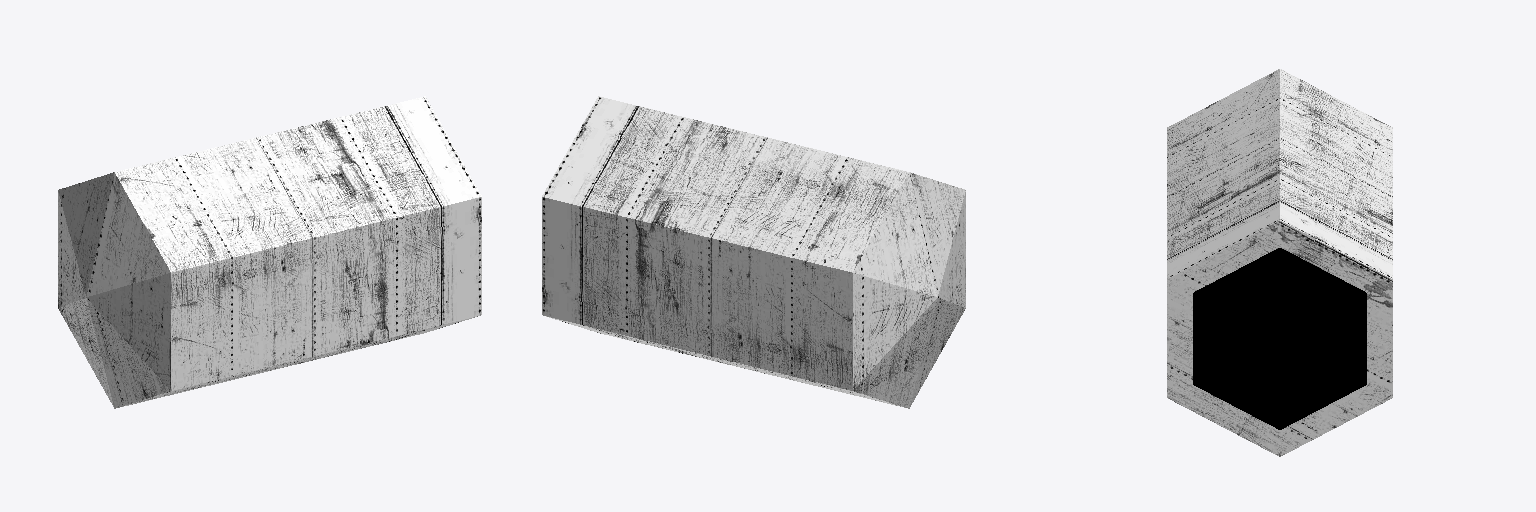
The picture shows the model from 3 angles: view 1: azimuth 30°, elevation 25°; view 2: azimuth 150°, elevation 25°; view 3: azimuth 270°, elevation 25°; orthographic projection.
Parts seen in each view (by area): view 1: Mesh1 Model; view 2: Mesh1 Model; view 3: Mesh1 Model.
Part boxes in pixels (x1,y1,x2,y2): Mesh1 Model: (58,96,481,408); Mesh1 Model: (542,96,965,408); Mesh1 Model: (1167,69,1392,456).
Size of the model in its own units: 1.2 by 0.8 by 0.6928.
Materials: 2 (1 with a texture image).